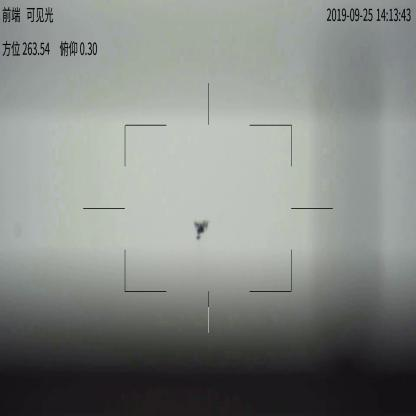uav: (193, 217, 211, 241)
